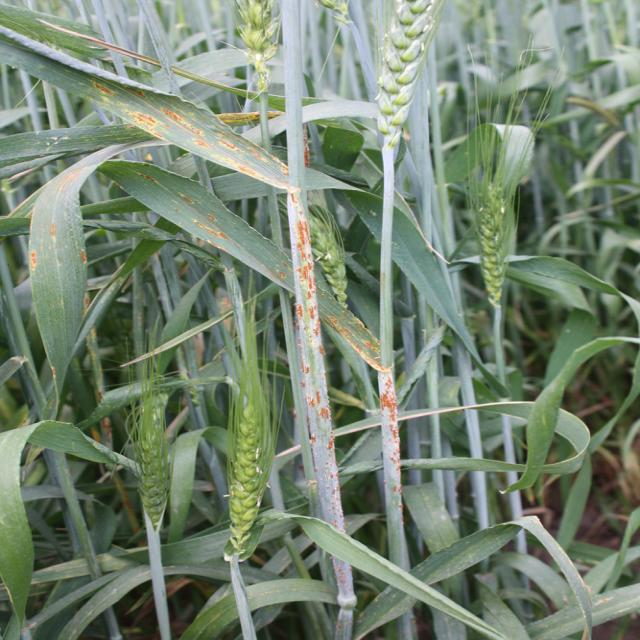wheat-stemrust: (68, 68, 287, 191), (288, 196, 344, 535), (379, 372, 399, 518)
